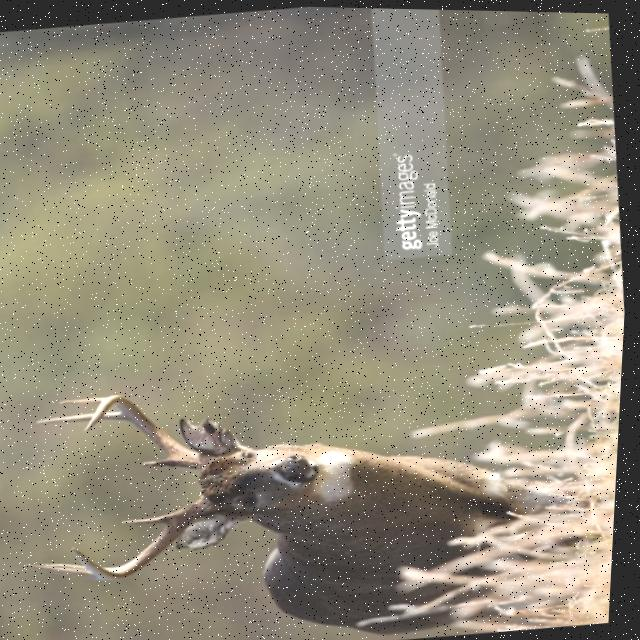L-F: (87, 394, 226, 470)
L-G1: (145, 455, 182, 466)
R-F: (76, 493, 226, 579)
R-G1: (126, 511, 178, 524)
R-G3: (30, 564, 114, 579)
